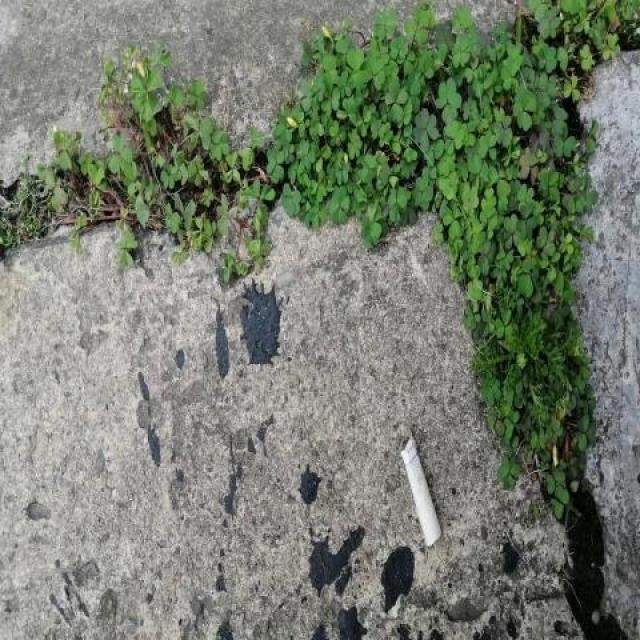non-organic waste: (395, 424, 444, 552)
